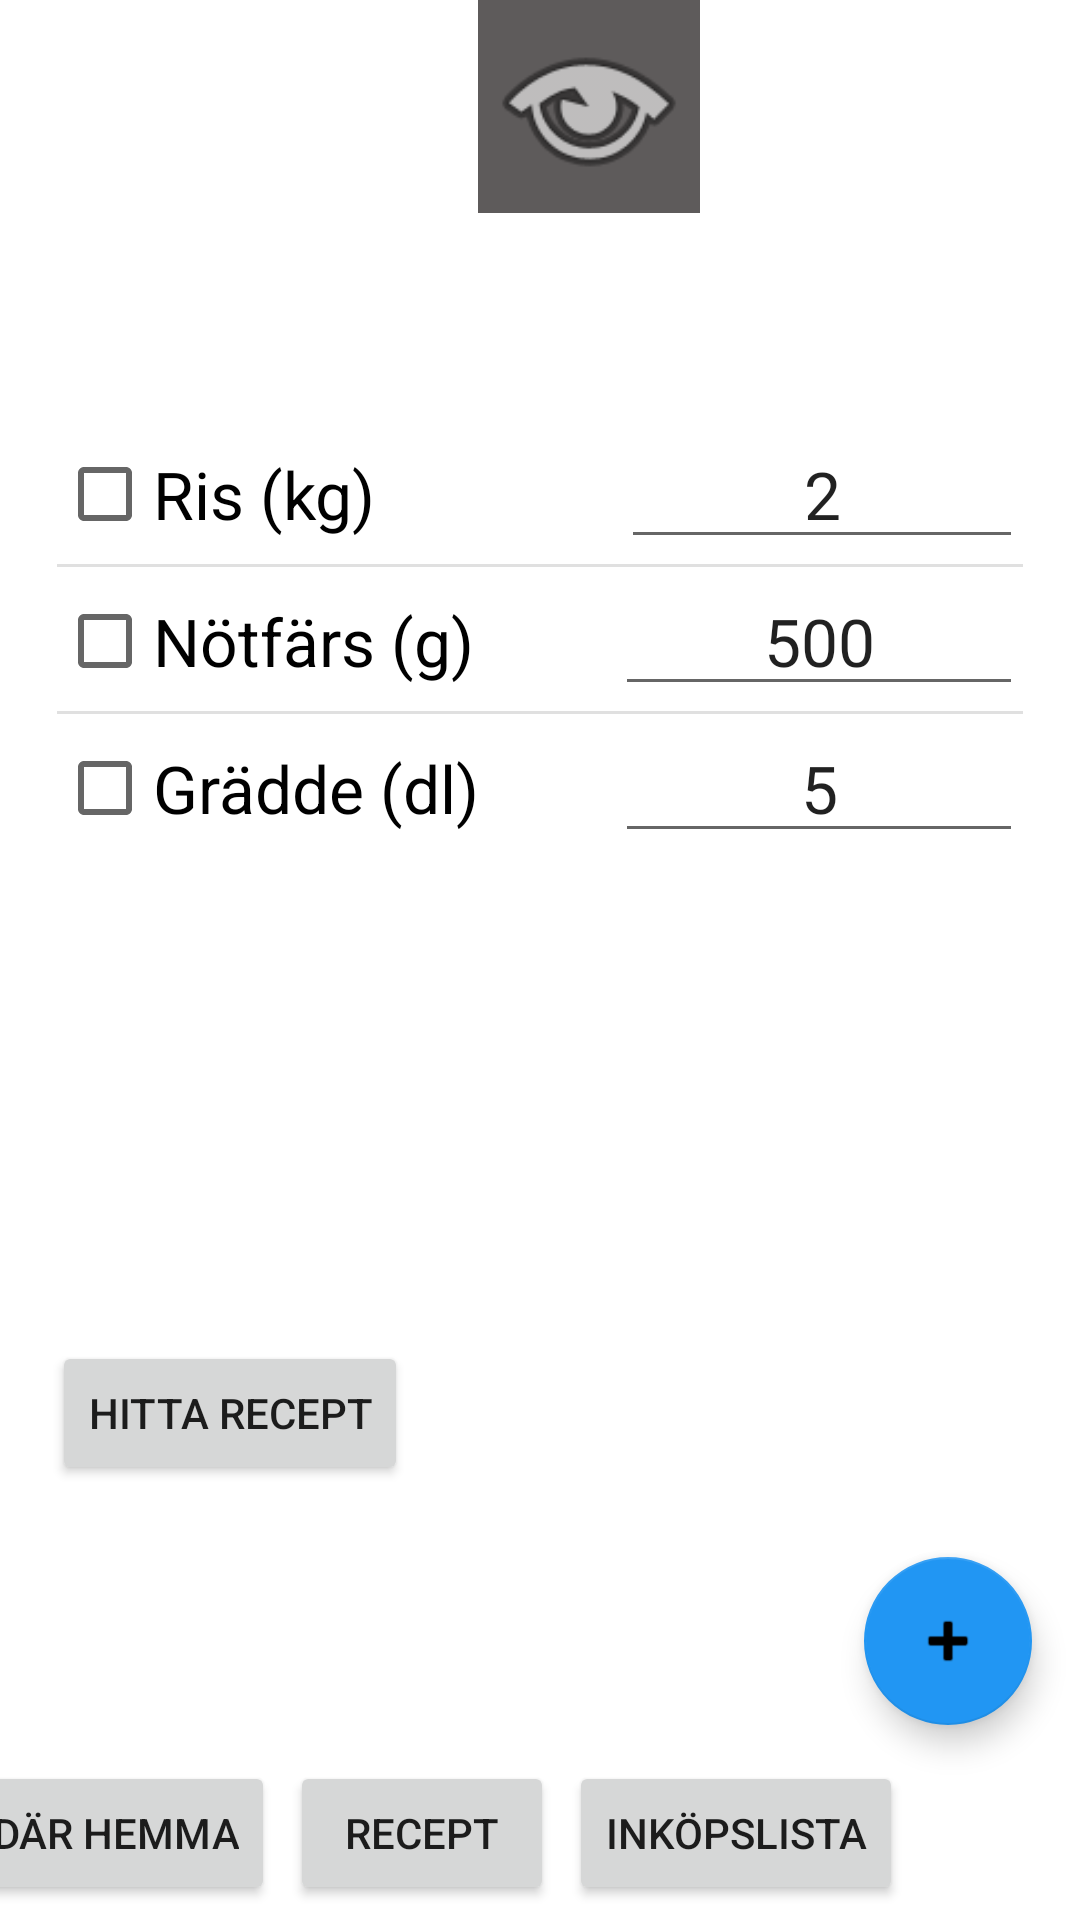

Point at icon controls on the screen. Image size 1080 × 1920, points as [x,y].
add: [948,1641]
